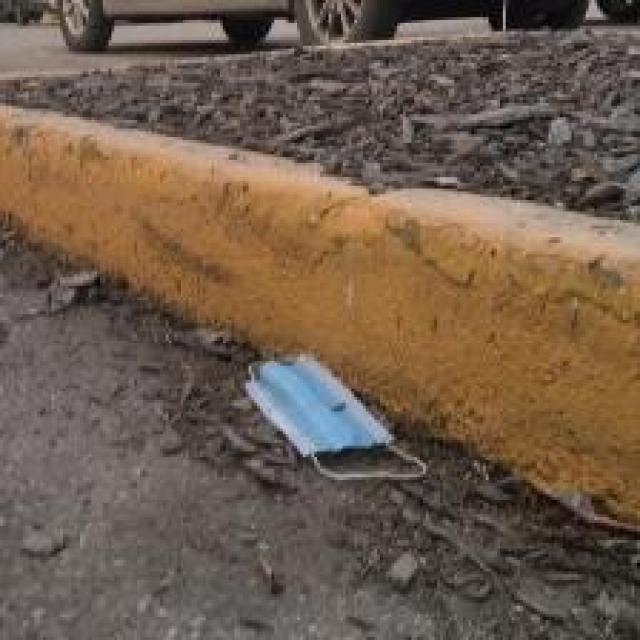Mask: (210, 327, 436, 505)
